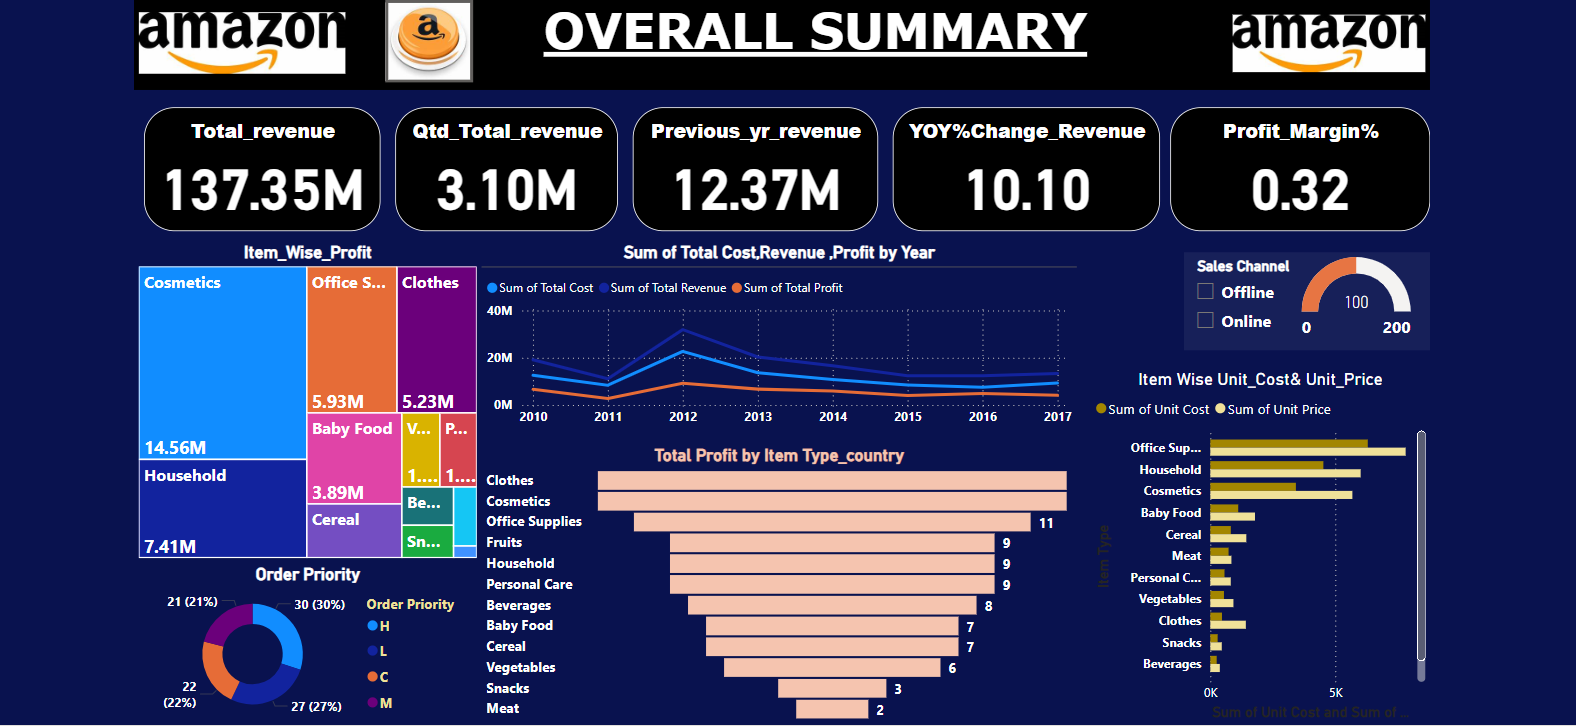

Layout of this report page (visuals, bound fields, positions):
{"tool":"powerbi","page":{"name":"Overall_summary","canvas":[1280,720],"ordinal":3},"visuals":[{"type":"textbox","box":[0,0,1280.3,92.9],"z":0},{"type":"card","title":"Total_revenue","fields":{"Values":["data.total_revenue"]},"box":[9.8,110.1,233.6,122.3],"z":1000},{"type":"card","title":"Qtd_Total_revenue","fields":{"Values":["data.qtd_amazon_Revenue"]},"box":[258,110.1,220.1,122.3],"z":2000},{"type":"card","title":"Previous_yr_revenue","fields":{"Values":["data.previous_yr_ytd_Revenue"]},"box":[492.8,110.1,242.1,122.3],"z":3000},{"type":"card","title":"YOY%Change_Revenue","fields":{"Values":["data.YOY%_Change_revenue"]},"box":[749.6,110.1,264.1,122.3],"z":4000},{"type":"image","box":[243.3,0,95.4,90.5],"z":5000},{"type":"actionButton","box":[248.2,3.7,86.8,81.9],"z":6000},{"type":"lineChart","title":"Sum of Total Cost,Revenue ,Profit by Year","fields":{"Category":["data.Order Date MonthYear.Variation.Date Hierarchy.Year"],"Y":["Sum(data.Total Cost)","Sum(data.Total Revenue)","Sum(data.Total Profit)"]},"box":[343.6,243.3,588.2,189.5],"z":7000},{"type":"card","title":"Profit_Margin%","fields":{"Values":["data.Profit Margin"]},"box":[1023.5,110.1,256.8,122.3],"z":8000},{"type":"funnel","title":"Total Profit by Item Type_country","fields":{"Category":["data.Item Type","data.Country"],"Y":["Count(data.Country)"]},"box":[343.6,442.7,588.2,277.6],"z":9000},{"type":"donutChart","title":" Order Priority ","fields":{"Category":["Amazon Sales data.Order Priority"],"Y":["CountNonNull(Amazon Sales data.Order Priority)"]},"box":[0,560.1,343.6,160.2],"z":10000},{"type":"treemap","title":"Item_Wise_Profit","fields":{"Group":["data.Item Type"],"Values":["Sum(data.Total Profit)"]},"box":[0,243.3,343.6,316.7],"z":11000},{"type":"gauge","fields":{"Y":["CountNonNull(data.Sales Channel)"]},"box":[1134.8,253.1,145.5,95.4],"z":12000},{"type":"slicer","fields":{"Values":["data.Sales Channel"]},"box":[1037,253.1,243.3,96.6],"z":12001},{"type":"image","box":[1079.8,0,200.5,92.9],"z":12002},{"type":"image","box":[0,0,214,92.9],"z":12003},{"type":"clusteredBarChart","title":"Item Wise Unit_Cost& Unit_Price","fields":{"Category":["data.Item Type"],"Y":["Sum(data.Unit Cost)","Sum(data.Unit Price)"]},"box":[944,368.1,336.3,352.2],"z":12004}]}

Visuals, with their boxes on the page's 1280x720 design canvas (x1, y1, x2, y2). These are canvas units, not pixel positions in the 1576x726 screenshot, which may show the page scaled, cropped or inside an application window:
textbox: 0,0,1280,93
"Total_revenue" card: 10,110,243,232
"Qtd_Total_revenue" card: 258,110,478,232
"Previous_yr_revenue" card: 493,110,735,232
"YOY%Change_Revenue" card: 750,110,1014,232
image: 243,0,339,90
actionButton: 248,4,335,86
"Sum of Total Cost,Revenue ,Profit by Year" lineChart: 344,243,932,433
"Profit_Margin%" card: 1024,110,1280,232
"Total Profit by Item Type_country" funnel: 344,443,932,720
" Order Priority " donutChart: 0,560,344,720
"Item_Wise_Profit" treemap: 0,243,344,560
gauge - CountNonNull(data.Sales Channel): 1135,253,1280,348
slicer - data.Sales Channel: 1037,253,1280,350
image: 1080,0,1280,93
image: 0,0,214,93
"Item Wise Unit_Cost& Unit_Price" clusteredBarChart: 944,368,1280,720
